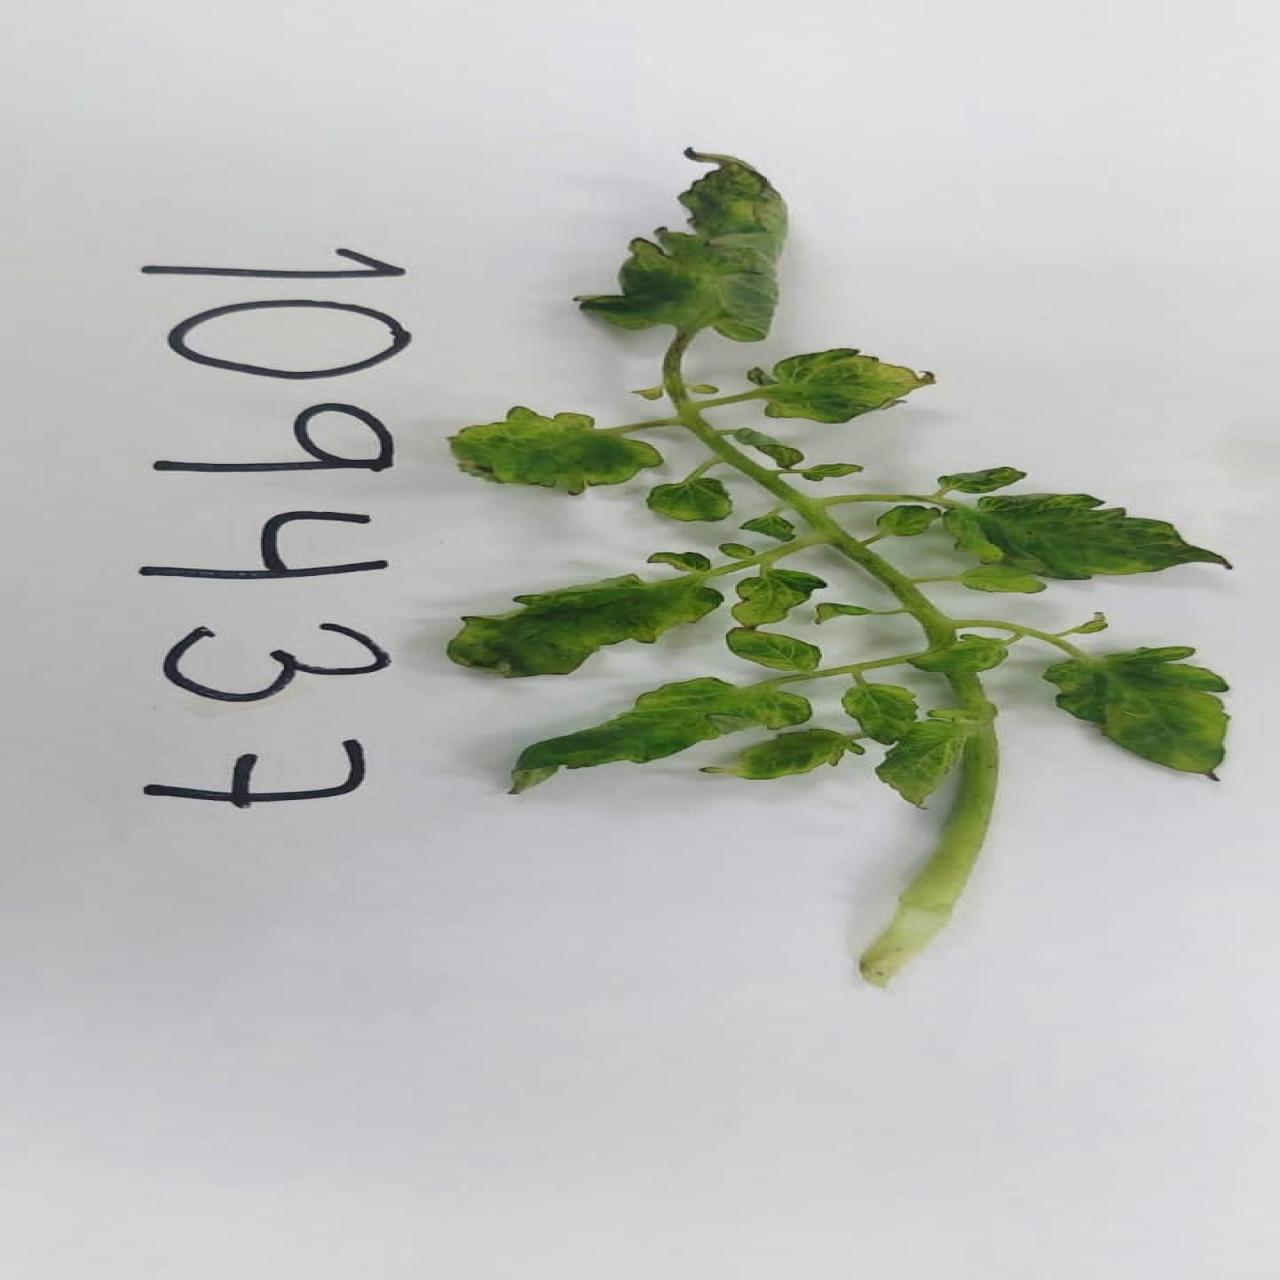T_L_R: (584, 152, 789, 343), (517, 679, 811, 789), (450, 576, 722, 679), (944, 493, 1227, 581), (1044, 649, 1227, 774), (450, 409, 661, 496), (761, 349, 933, 424), (708, 729, 862, 781)
T_S_R: (694, 424, 955, 646), (862, 724, 1000, 986), (661, 336, 712, 431)
